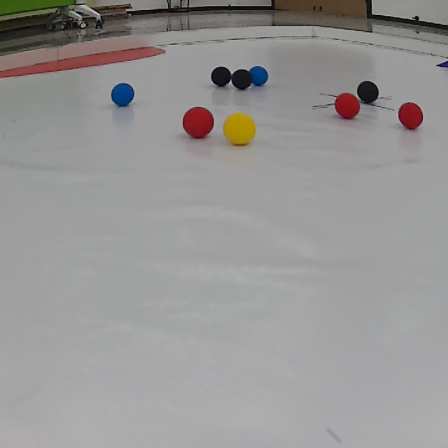black: (356, 77, 380, 107), (207, 67, 233, 87), (232, 68, 250, 89)
blue: (106, 80, 138, 108), (249, 64, 271, 87)
red: (181, 106, 214, 139), (395, 97, 425, 132), (334, 93, 361, 118)
red_base: (1, 36, 163, 87)
yellow: (222, 110, 257, 148)
